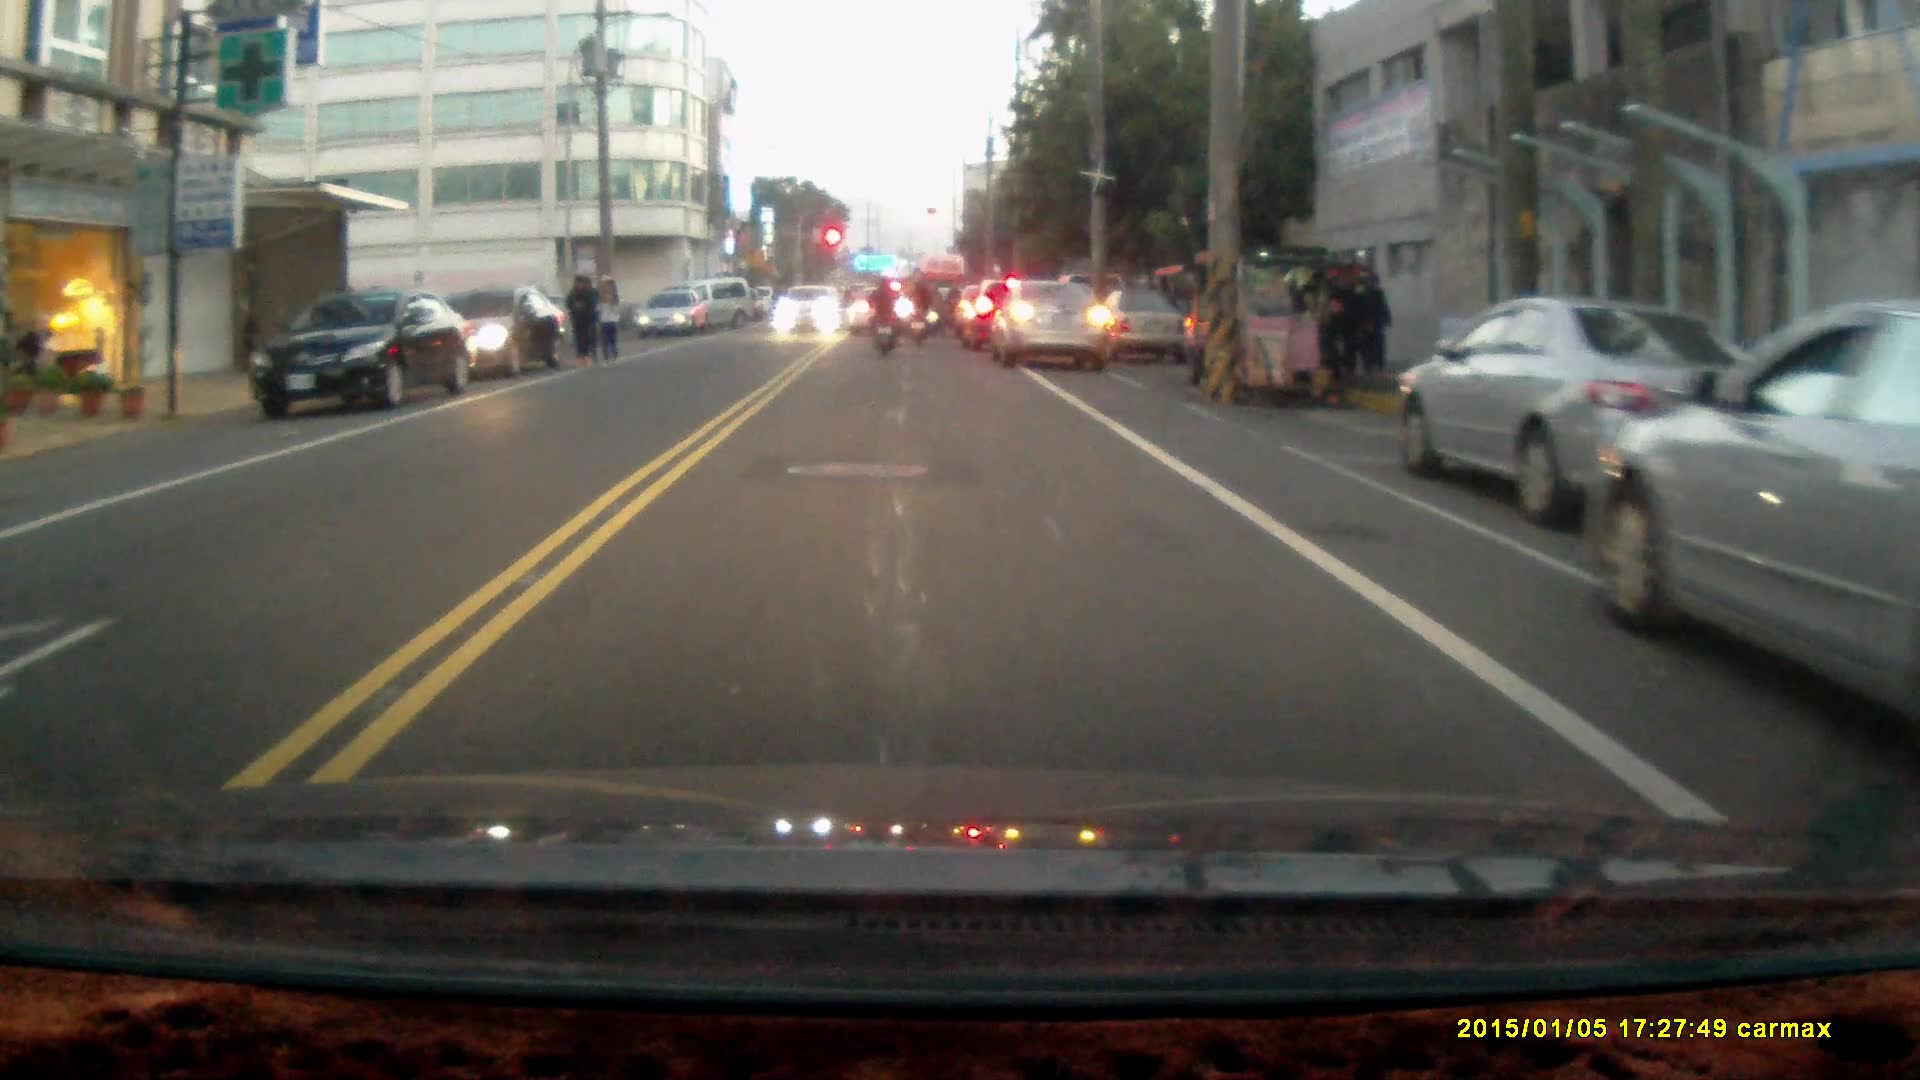pedestrian: (1353, 270, 1393, 383), (562, 271, 599, 369), (596, 276, 622, 368)
rider: (866, 274, 900, 358), (902, 277, 932, 346)
vehicle: (1590, 304, 1920, 764), (1390, 299, 1794, 531), (1179, 257, 1379, 414), (246, 286, 478, 421), (441, 289, 574, 383), (995, 284, 1114, 377), (639, 293, 717, 345), (776, 289, 848, 342)
